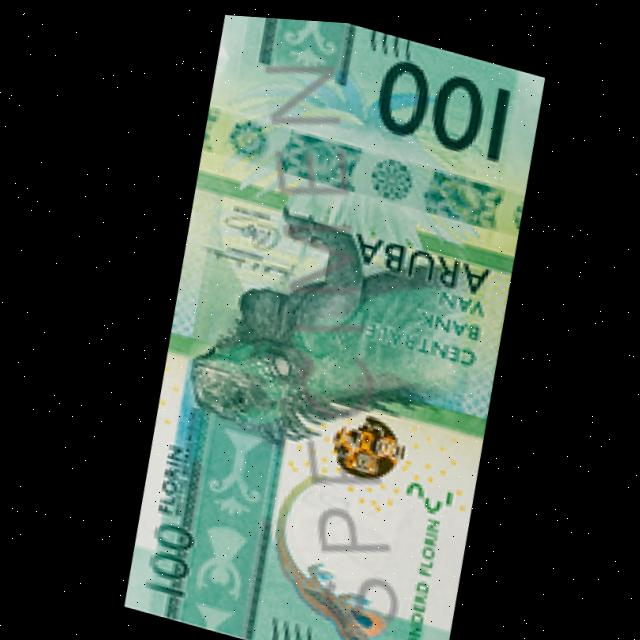banknote: (94, 5, 564, 640)
